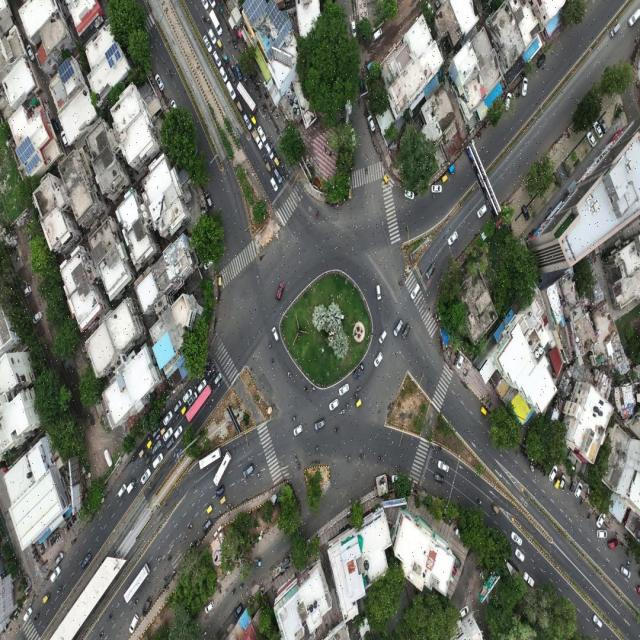3W: (490, 500, 502, 518), (40, 588, 52, 605), (235, 100, 244, 118), (353, 396, 363, 412), (447, 160, 457, 176), (479, 404, 489, 419), (552, 477, 562, 492), (215, 35, 224, 51), (203, 502, 214, 515), (272, 154, 281, 169), (265, 161, 274, 175), (250, 115, 258, 130), (439, 173, 449, 185), (159, 425, 168, 438), (383, 173, 390, 189), (218, 497, 228, 508), (136, 447, 145, 458), (181, 406, 188, 419), (569, 481, 576, 494), (145, 439, 154, 449)
Bus: (120, 557, 152, 606), (183, 384, 214, 428), (211, 447, 234, 489), (194, 444, 223, 472), (236, 79, 259, 114)
Cars: (589, 116, 604, 144), (445, 227, 461, 250), (508, 529, 524, 552), (595, 507, 610, 531), (141, 590, 153, 619), (585, 128, 598, 153), (272, 281, 286, 304), (437, 458, 453, 478), (473, 202, 490, 220), (627, 6, 640, 29), (153, 71, 166, 93), (598, 115, 611, 137), (512, 547, 527, 566), (590, 613, 604, 633), (391, 315, 403, 338), (225, 80, 237, 103), (211, 44, 222, 69), (520, 201, 531, 226), (617, 564, 633, 581), (352, 363, 366, 382), (152, 452, 165, 472), (377, 320, 387, 346), (609, 20, 622, 40), (536, 52, 547, 75), (241, 462, 255, 480), (372, 24, 384, 45), (201, 34, 213, 55), (547, 461, 559, 482), (49, 565, 62, 584), (150, 439, 163, 458), (80, 551, 92, 571), (204, 598, 217, 616), (425, 261, 436, 282), (272, 324, 282, 347), (197, 376, 209, 395), (504, 88, 513, 113), (403, 186, 416, 203), (129, 613, 139, 635), (141, 465, 151, 487), (410, 282, 421, 302), (169, 95, 179, 117), (242, 111, 253, 131), (520, 74, 529, 98), (233, 602, 244, 621), (373, 350, 384, 369), (338, 381, 351, 397), (594, 528, 610, 541), (201, 517, 213, 534), (207, 26, 217, 46), (265, 142, 275, 162), (22, 605, 33, 623), (54, 548, 65, 566), (350, 18, 359, 40), (163, 426, 175, 442), (328, 396, 340, 412), (117, 482, 127, 501), (182, 386, 192, 405), (367, 114, 377, 133), (257, 125, 267, 144), (269, 175, 279, 194), (351, 122, 358, 149), (575, 479, 584, 500), (357, 72, 365, 95), (215, 486, 228, 500), (173, 399, 183, 417), (187, 392, 199, 407), (292, 424, 304, 439), (205, 190, 214, 210), (235, 63, 244, 83), (173, 424, 184, 440), (163, 410, 174, 426), (402, 323, 411, 342), (219, 65, 228, 84), (227, 65, 236, 84), (274, 166, 283, 185), (213, 370, 223, 387), (313, 418, 326, 431), (430, 182, 443, 195), (389, 473, 402, 486), (152, 424, 161, 442), (373, 282, 381, 302), (434, 473, 446, 485), (607, 539, 620, 550), (559, 471, 566, 490), (166, 437, 175, 451), (207, 0, 217, 11), (201, 0, 210, 12)
LCV: (518, 566, 537, 591), (209, 9, 224, 37), (251, 128, 264, 151), (125, 479, 138, 498), (253, 556, 263, 572), (221, 48, 229, 65)
M2W: (362, 161, 369, 176), (314, 206, 320, 221), (34, 611, 41, 623), (70, 538, 78, 548), (201, 13, 208, 24), (231, 586, 238, 597), (169, 67, 175, 79), (187, 521, 195, 530), (56, 585, 63, 595), (201, 629, 208, 639), (206, 15, 212, 26), (267, 340, 273, 351), (477, 498, 484, 507), (345, 455, 352, 464), (290, 414, 297, 423), (32, 546, 38, 556), (33, 551, 39, 561), (275, 126, 281, 136), (262, 152, 267, 164), (280, 162, 286, 172), (311, 383, 317, 393), (287, 369, 293, 379), (270, 356, 276, 366), (333, 426, 340, 434), (313, 445, 320, 453), (155, 556, 163, 563), (108, 611, 115, 619), (65, 522, 70, 533), (403, 270, 408, 281), (478, 130, 484, 139), (303, 385, 309, 394), (239, 582, 245, 591), (257, 471, 263, 480), (167, 553, 173, 562), (161, 441, 166, 451), (222, 60, 227, 70), (587, 511, 592, 521), (293, 453, 298, 463), (377, 454, 384, 461), (359, 453, 366, 460), (282, 171, 286, 183), (357, 97, 361, 109), (430, 443, 436, 451), (132, 598, 138, 606), (68, 520, 73, 529), (71, 516, 76, 525), (230, 63, 235, 72), (623, 537, 630, 543), (438, 444, 444, 451), (431, 458, 437, 465), (356, 385, 362, 392), (188, 541, 194, 548), (98, 631, 104, 638), (31, 540, 35, 550), (37, 554, 41, 564), (41, 549, 46, 557), (58, 533, 62, 543), (218, 380, 222, 390), (274, 148, 278, 158), (488, 401, 493, 409), (49, 539, 53, 548), (144, 452, 148, 461), (255, 89, 261, 95), (272, 105, 276, 114), (266, 133, 270, 142), (269, 141, 273, 150), (398, 281, 404, 287), (155, 433, 160, 440), (147, 434, 152, 441), (253, 83, 258, 90), (285, 173, 290, 180), (516, 92, 521, 99), (626, 561, 633, 566), (345, 403, 350, 410), (353, 392, 358, 399), (261, 101, 264, 112), (298, 461, 301, 472), (277, 156, 281, 164), (171, 419, 176, 425), (580, 496, 583, 506), (340, 409, 345, 415), (229, 504, 234, 510), (176, 413, 180, 420), (195, 384, 199, 391), (212, 372, 216, 379), (252, 79, 256, 86), (258, 94, 262, 101), (476, 133, 480, 140), (52, 536, 55, 545), (55, 534, 58, 543), (265, 104, 268, 113), (264, 90, 267, 99), (525, 451, 528, 460), (207, 376, 211, 382), (208, 371, 212, 377), (210, 358, 214, 364), (212, 367, 216, 373), (244, 77, 247, 85), (250, 76, 254, 82), (268, 102, 271, 110), (622, 533, 628, 537), (207, 359, 210, 366), (541, 465, 544, 472), (544, 470, 547, 477), (235, 44, 238, 50), (521, 446, 523, 455), (523, 448, 525, 457), (532, 457, 534, 465), (539, 463, 541, 469), (619, 546, 625, 548)
